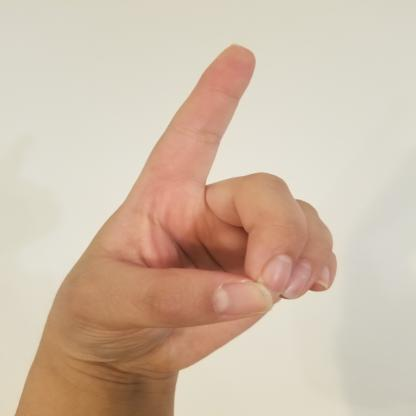D: (29, 38, 344, 382)
